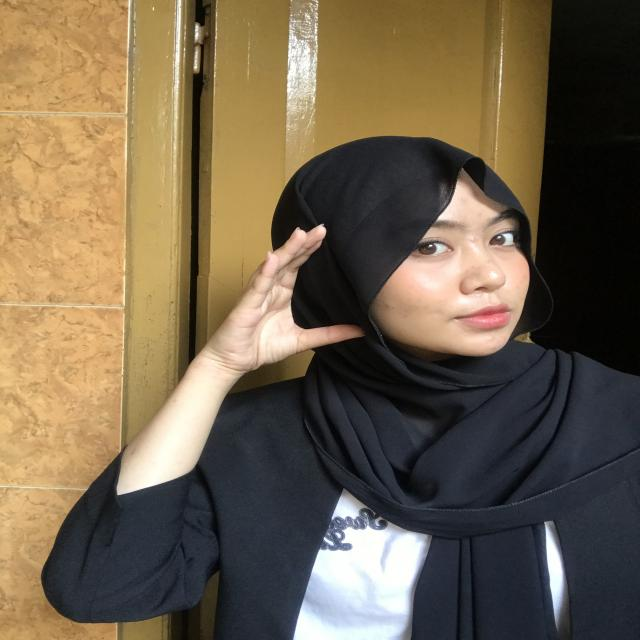mendengar: (237, 216, 367, 379)
